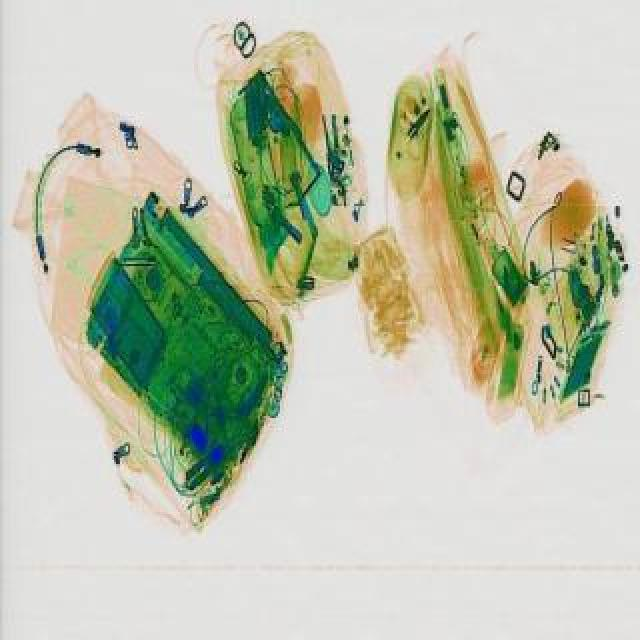knife: (400, 106, 440, 146)
